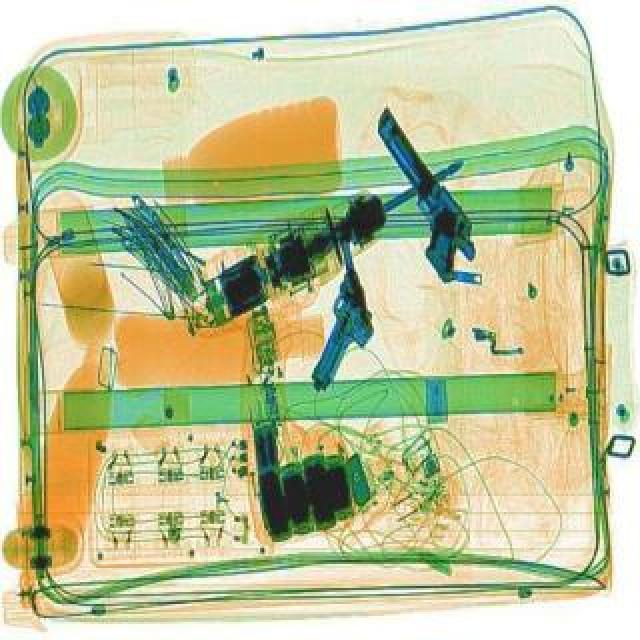gun: (338, 102, 490, 276), (282, 232, 384, 388)
